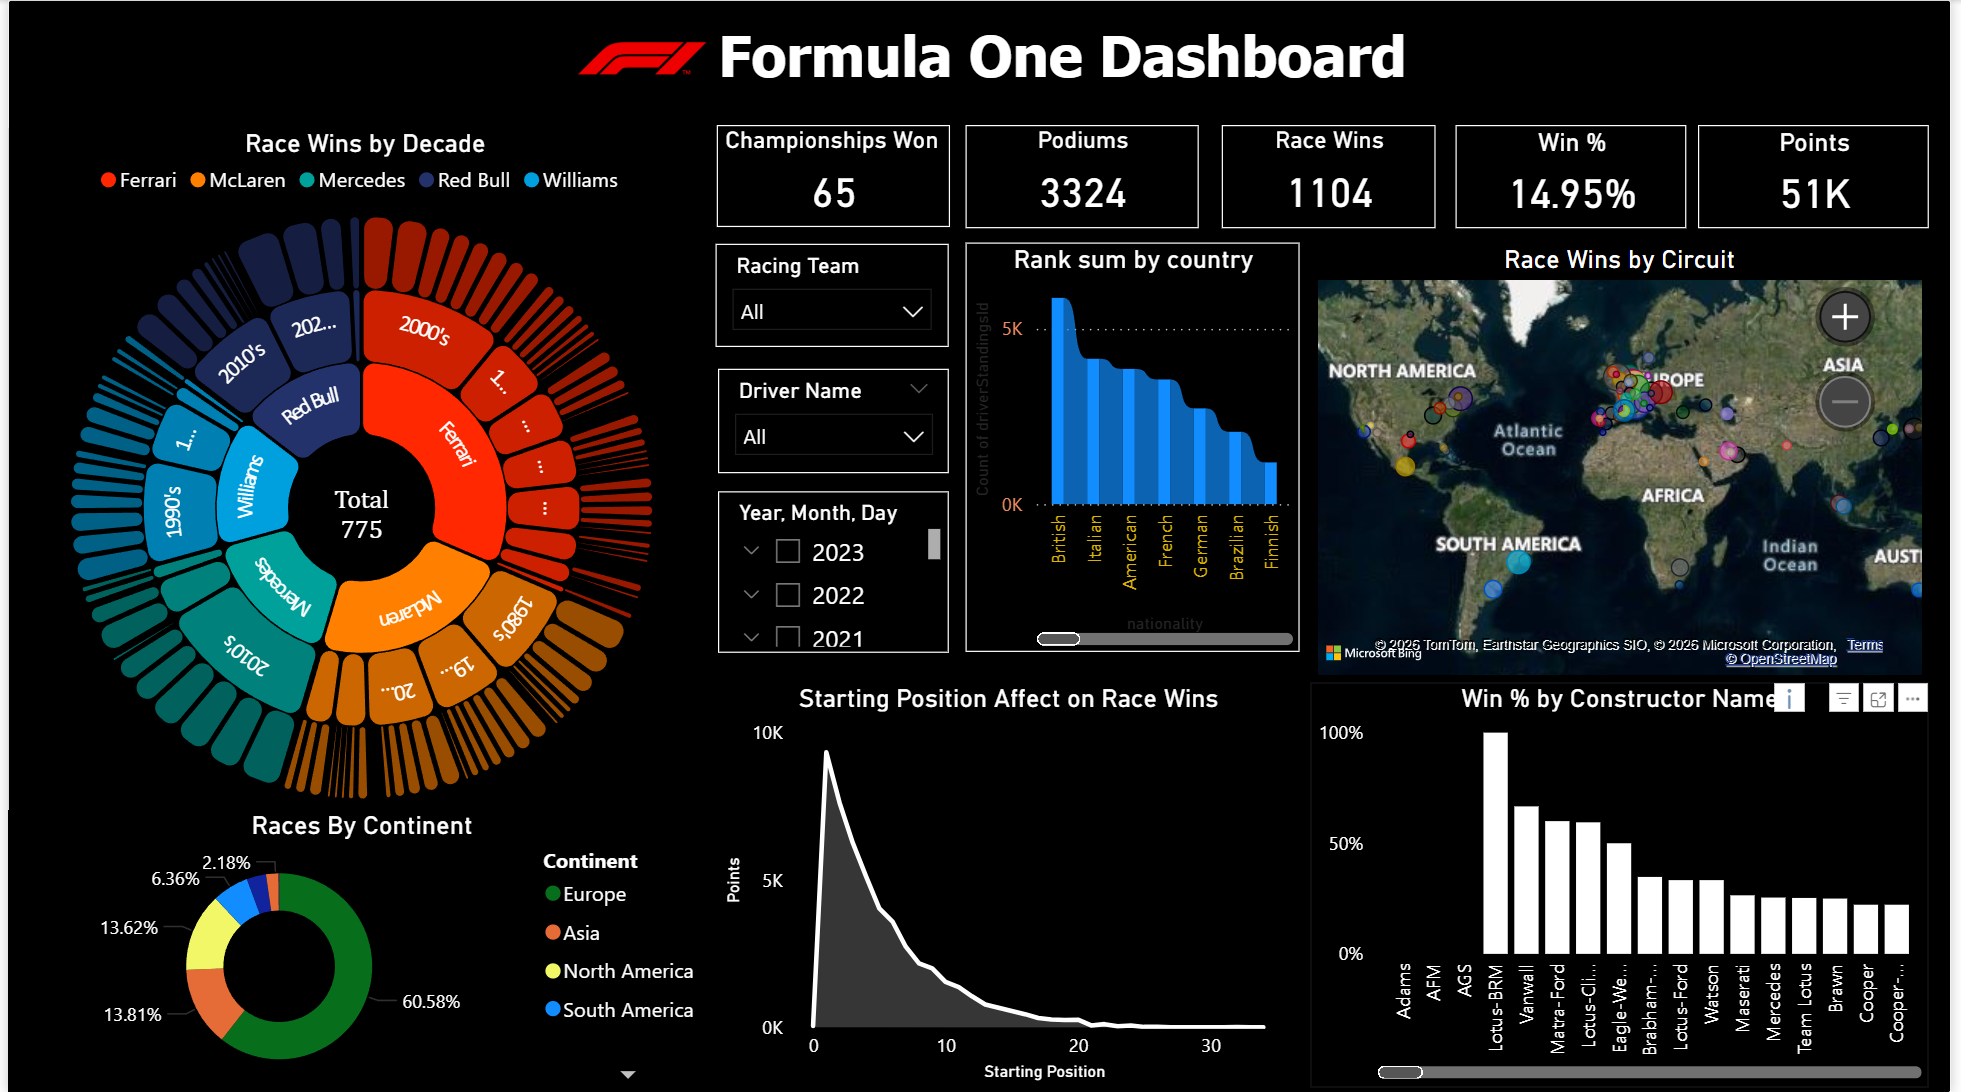

What the dashboard file says about the page in this screenshot:
{"tool":"powerbi","page":{"name":"Page 1","canvas":[1280,720],"ordinal":0},"visuals":[{"type":"SunburstDD4B4E19938B4CDD9D3EFC2221D4DCF7","title":"Race Wins by Decade","fields":{"category":["results.Decade","results.Year"],"parentcategory":["constructors.Constructor Name"],"measure":["results.Race Wins"]},"box":[0,84.2,470.6,456.1],"z":0},{"type":"card","title":"Championships Won","fields":{"Values":["Championship Data.Constructor ID"]},"box":[466.3,82.6,153.5,67.4],"z":1000},{"type":"card","title":"Podiums","fields":{"Values":["results.Podium"]},"box":[630.2,82,153.4,67.9],"z":2000},{"type":"card","title":"Race Wins","fields":{"Values":["results.Race Wins"]},"box":[798.8,82,140.6,67.9],"z":3000},{"type":"slicer","fields":{"Values":["constructors.Constructor Name"]},"box":[466.2,160.5,153.4,67.9],"z":4000},{"type":"slicer","fields":{"Values":["Driver Data.Driver Name"]},"box":[467.4,242.5,152.3,69.1],"z":5000},{"type":"map","title":"Race Wins by Circuit","fields":{"Category":["Circuits.location"],"Series":["Circuits.name"],"Y":["Circuits.lat"],"X":["Circuits.lng"],"Size":["results.Race Wins"]},"box":[857.6,160.2,407.1,289.3],"z":6000},{"type":"donutChart","title":"Races By Continent","fields":{"Category":["Circuits.Continent"],"Y":["races.circuitId"]},"box":[0,533,466.5,187],"z":7000},{"type":"areaChart","title":"Starting Position Affect on Race Wins","fields":{"Category":["results.grid"],"Y":["results.points"]},"box":[467.4,449.8,383,267.1],"z":8000},{"type":"card","title":"Win %","fields":{"Values":["results.Win %"]},"box":[953.4,82,152.3,67.9],"z":9000},{"type":"clusteredColumnChart","fields":{"Category":["constructors.Constructor Name"],"Y":["results.Win %"]},"box":[857.4,449.8,407.6,265.9],"z":10000},{"type":"image","box":[371.1,1,75.6,61],"z":11000},{"type":"textbox","box":[435.7,1,517.5,67.8],"z":12000},{"type":"card","title":"Points","fields":{"Values":["results.points"]},"box":[1112.7,82,152.3,67.9],"z":13000},{"type":"slicer","fields":{"Values":["races.date.Variation.Date Hierarchy.Year","races.date.Variation.Date Hierarchy.Month","races.date.Variation.Date Hierarchy.Day"]},"box":[467.4,323.3,152.3,106.6],"z":14000},{"type":"ribbonChart","title":"Rank sum by country","fields":{"Category":["Driver Data.nationality"],"Y":["driver_standings.driverStandingsId"]},"box":[630.1,159.9,220,269.5],"z":15000}]}

Visuals, with their boxes in screenshot pixels (x1, y1, x2, y2), scaled from the page's 1280x720 canvas onto the 1961x1092 screenshot:
"Race Wins by Decade" SunburstDD4B4E19938B4CDD9D3EFC2221D4DCF7: 0,128,721,819
"Championships Won" card: 714,125,950,228
"Podiums" card: 965,124,1200,227
"Race Wins" card: 1224,124,1439,227
slicer - constructors.Constructor Name: 714,243,949,346
slicer - Driver Data.Driver Name: 716,368,949,473
"Race Wins by Circuit" map: 1314,243,1938,682
"Races By Continent" donutChart: 0,808,715,1091
"Starting Position Affect on Race Wins" areaChart: 716,682,1303,1087
"Win %" card: 1461,124,1694,227
clusteredColumnChart - constructors.Constructor Name x results.Win %: 1314,682,1938,1085
image: 569,2,684,94
textbox: 668,2,1460,104
"Points" card: 1705,124,1938,227
slicer - races.date.Variation.Date Hierarchy.Year x races.date.Variation.Date Hierarchy.Month: 716,490,949,652
"Rank sum by country" ribbonChart: 965,243,1302,651
